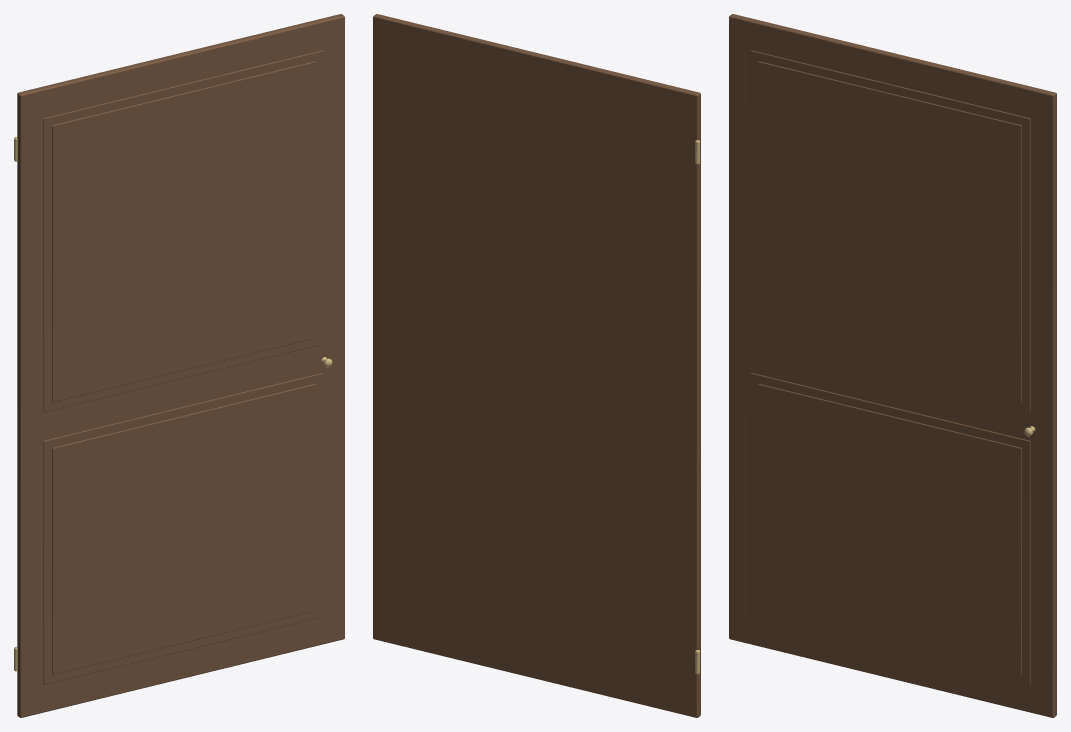
File: lp_cabinet_door_120.glb
3 views of the same model, side by side, from view 1: azimuth 30°, elevation 25°; view 2: azimuth 150°, elevation 25°; view 3: azimuth 330°, elevation 25° (orthographic).
Parts seen in each view (by area): view 1: lp_cabinet_door_120; view 2: lp_cabinet_door_120; view 3: lp_cabinet_door_120.
Boxes of the visible parts, <box> form: lp_cabinet_door_120: <box>14,14,344,717</box>; lp_cabinet_door_120: <box>373,14,700,717</box>; lp_cabinet_door_120: <box>729,14,1056,717</box>.
Size of the model in its own units: 1.2 by 2.19 by 0.067.
